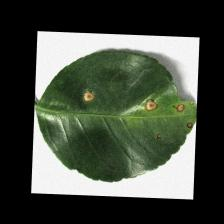canker: (74, 72, 196, 148)
